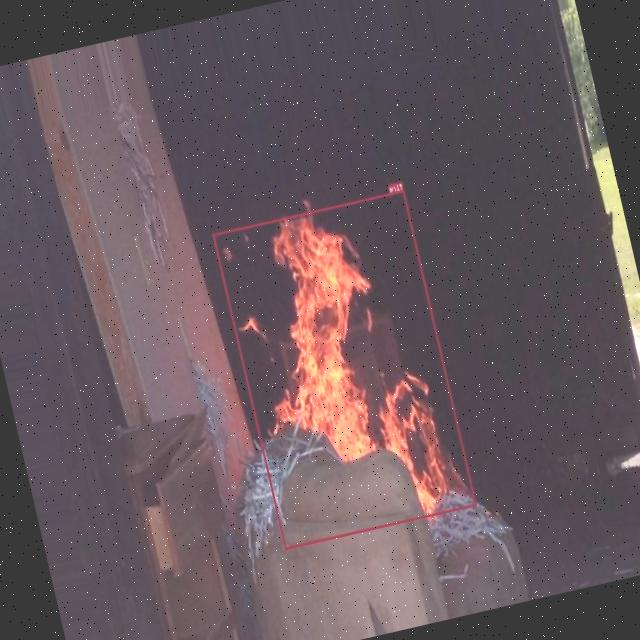fire: (212, 188, 477, 549)
